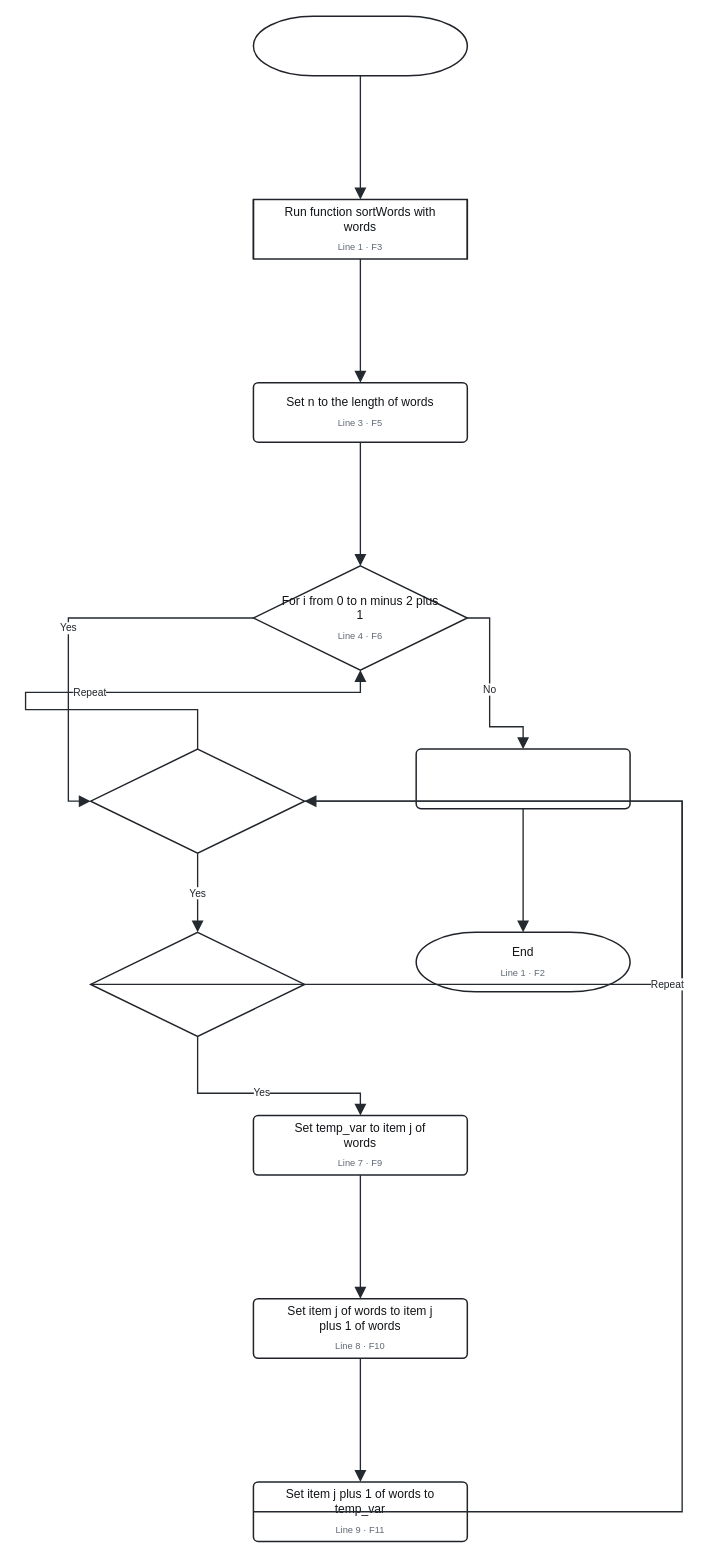
Some shapes in this 715 by 1559 pixel diagram are drawn without their labels. The shapes that lost their labels are listed below. From the top down, each one's centre as x and y in pixels, then its label:
the point at 360,45: Start Line 1 · F1
the point at 522,778: Return words Line 13 · F12
the point at 197,801: For j from 0 to n minus i minus 2 plus 1 Line 5 · F7
the point at 197,984: Item j of words is greater than item j plus 1 of words? Line 6 · F8
